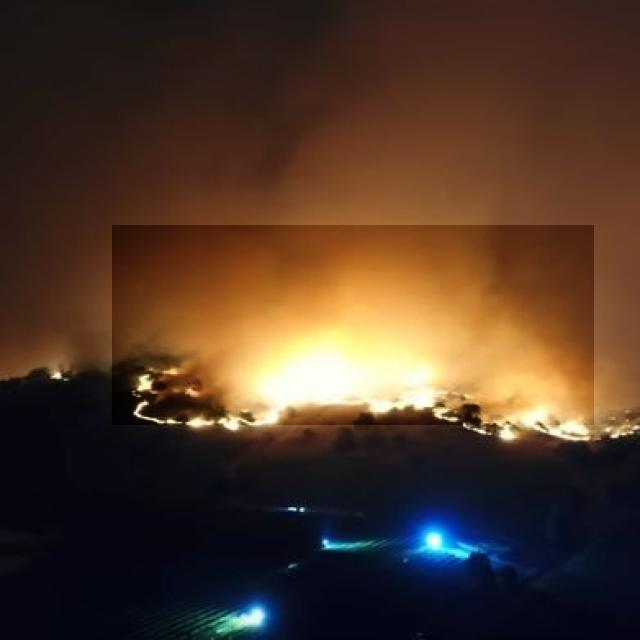Smoke: (112, 225, 594, 425)
